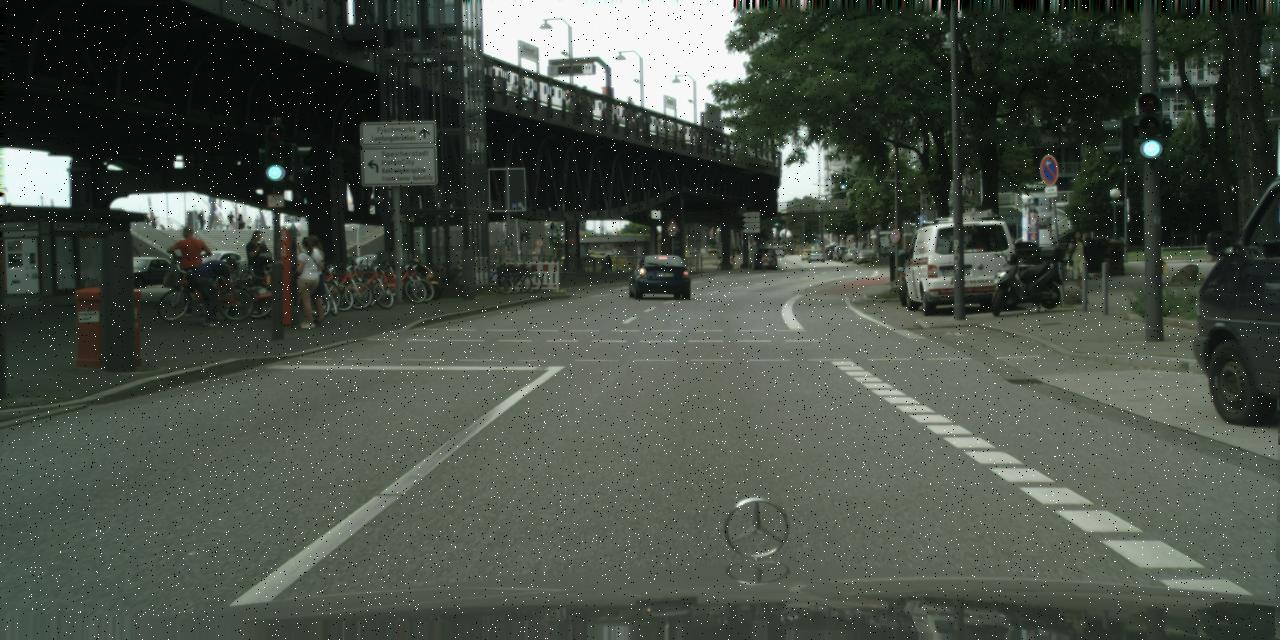ped: (289, 236, 326, 328), (174, 226, 210, 317), (298, 235, 333, 324), (244, 230, 274, 305), (1065, 230, 1093, 299), (622, 94, 636, 129), (578, 84, 592, 118), (196, 210, 206, 228), (823, 245, 832, 260), (148, 210, 155, 228), (227, 210, 234, 228), (254, 215, 262, 230), (236, 212, 242, 228), (536, 249, 542, 265), (143, 212, 149, 226), (553, 252, 558, 267), (246, 215, 251, 229), (606, 256, 609, 256)
